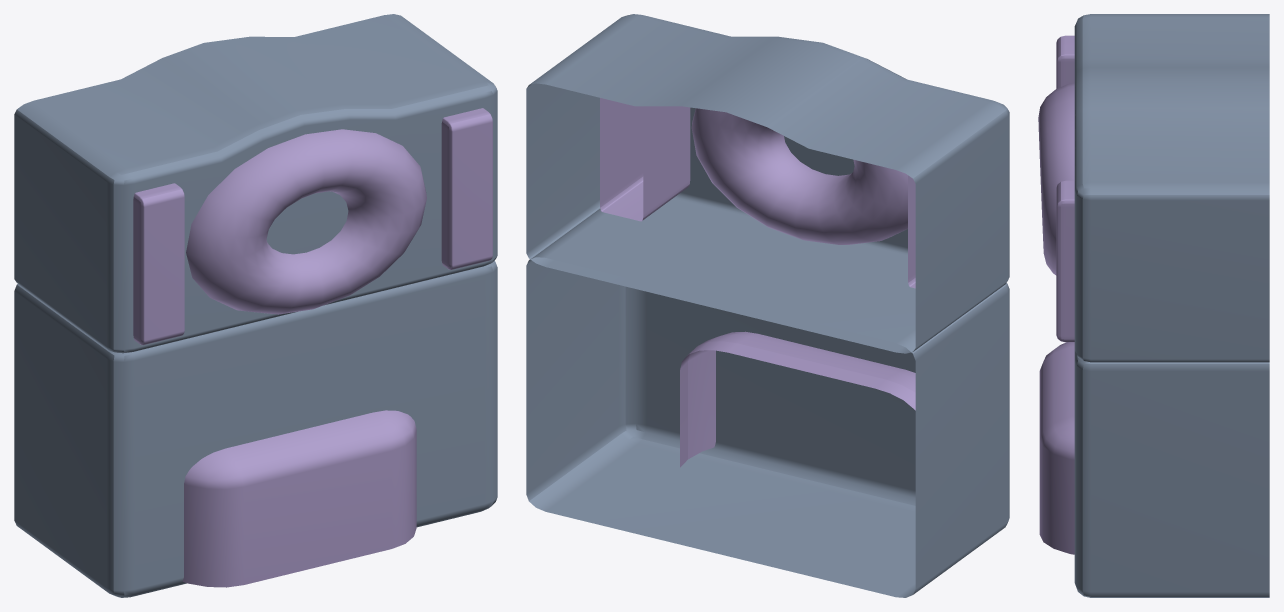
3 views of the same model, side by side, from view 1: azimuth 30°, elevation 25°; view 2: azimuth 150°, elevation 25°; view 3: azimuth 270°, elevation 25° (orthographic). The views are drawn at different scales.
Visible parts, largest first — view 1: polySurface50, polySurface53, polySurface52; view 2: polySurface50, polySurface53, polySurface52; view 3: polySurface53, polySurface50, polySurface52.
Part boxes in pixels (x1,y1,x2,y2): polySurface50: (14, 260, 497, 597); polySurface53: (14, 14, 497, 353); polySurface52: (133, 108, 492, 587); polySurface50: (526, 196, 1009, 597); polySurface53: (526, 14, 1009, 353); polySurface52: (600, 98, 915, 467); polySurface53: (1074, 14, 1269, 362); polySurface50: (1074, 350, 1269, 597); polySurface52: (1038, 35, 1074, 554).
Size of the model in its own units: 7.34 by 7.99 by 3.91.
